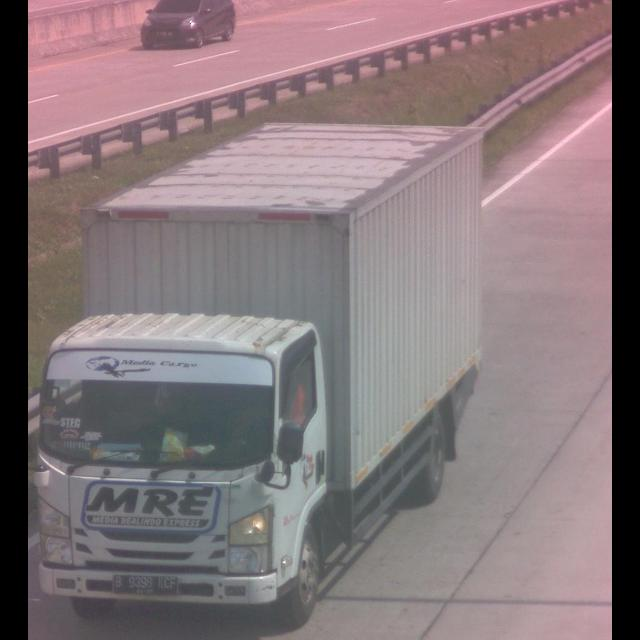plate: (111, 570, 181, 595)
